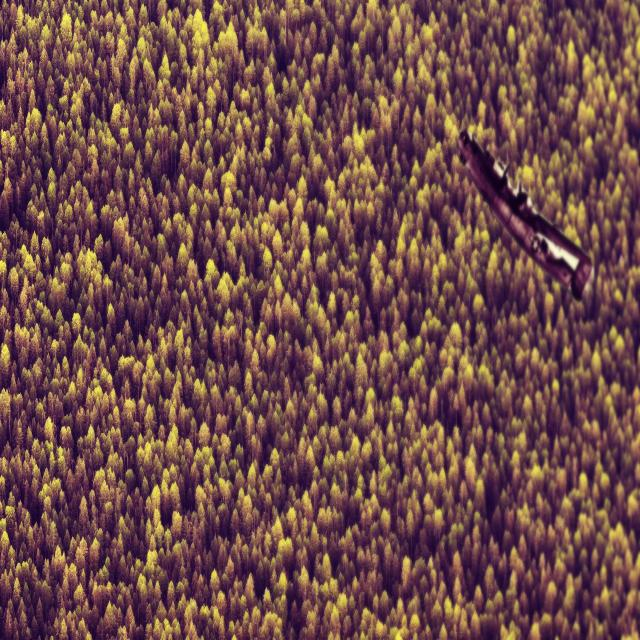airplane: (456, 126, 592, 302)
